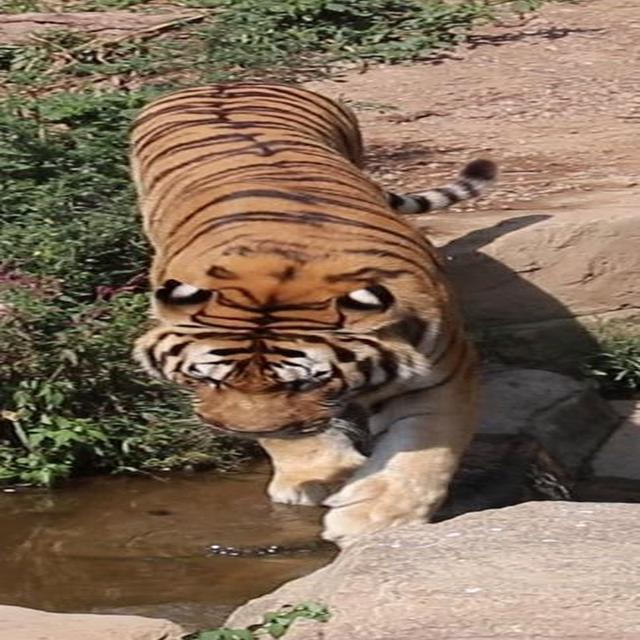tiger: (125, 78, 497, 549)
